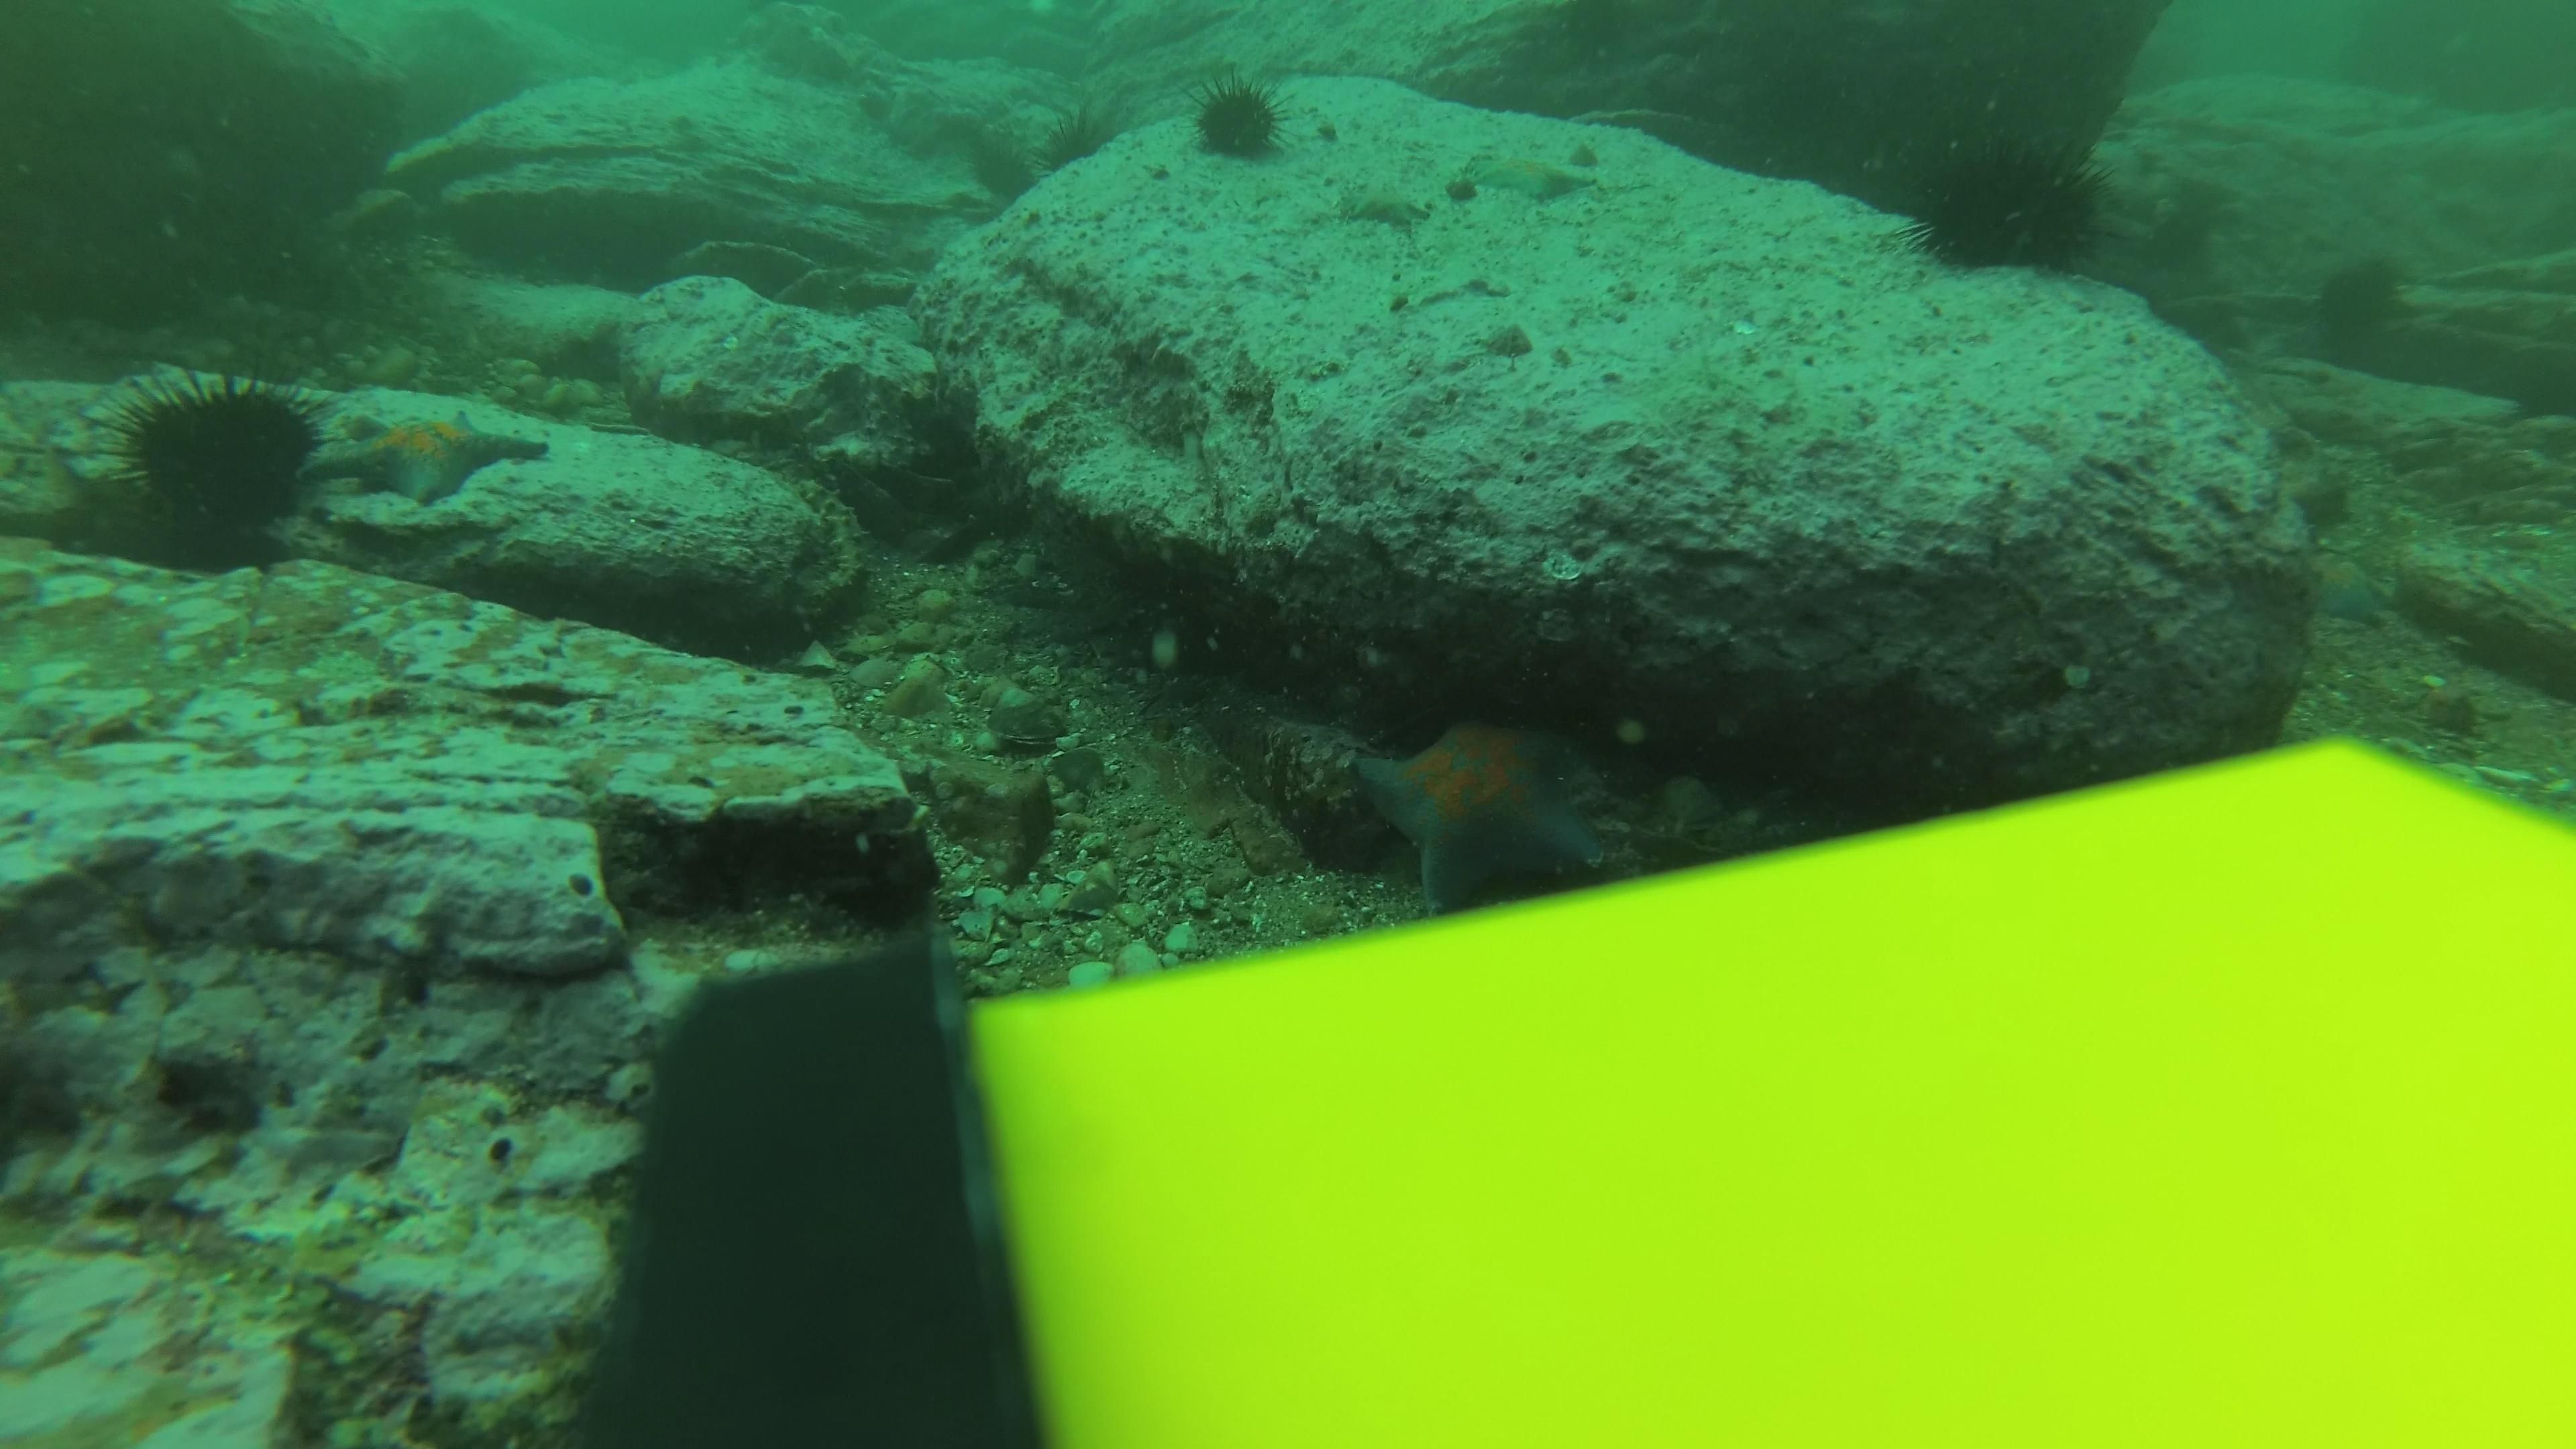echinus: (99, 361, 334, 557), (1897, 127, 2116, 287), (2302, 248, 2420, 359), (1182, 71, 1299, 172)
starfish: (1339, 706, 1615, 911), (303, 395, 556, 515), (1454, 145, 1606, 209), (2291, 543, 2401, 630), (1330, 180, 1437, 235)
